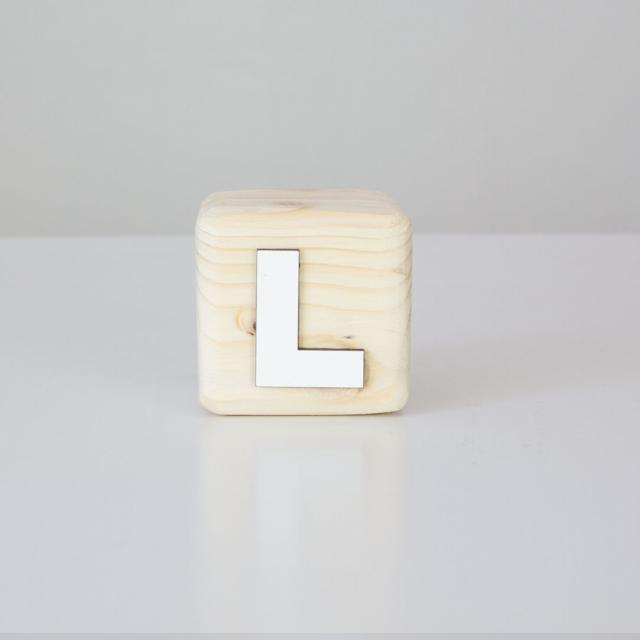L: (246, 238, 375, 403)
